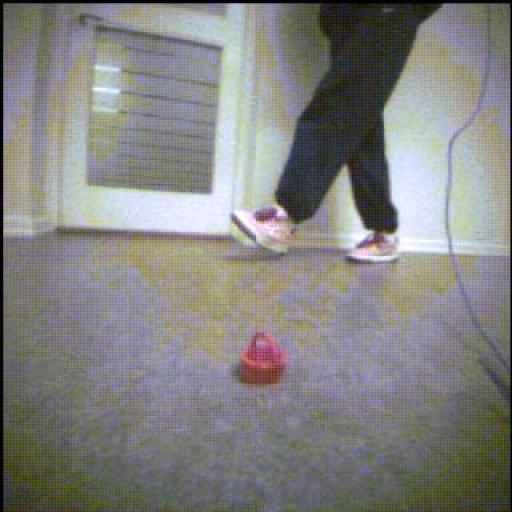Bucket: (241, 334, 287, 385)
